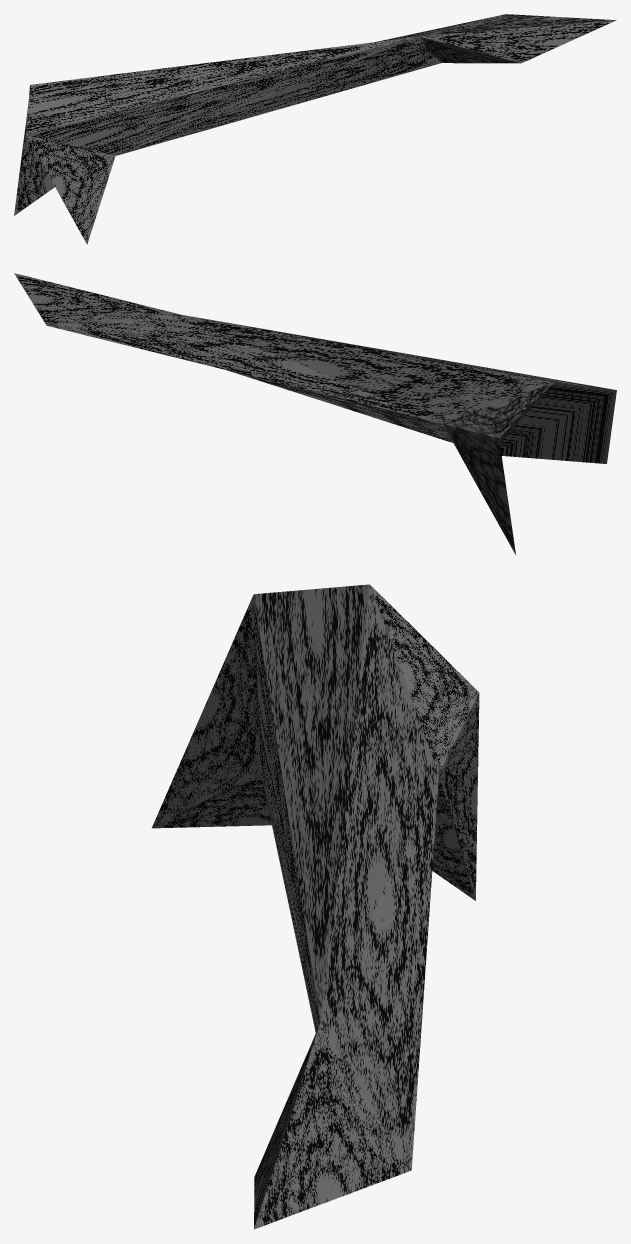
Rendered from CitizeOneLeftArm.fbx.
3 views of the same model, one above another, from view 1: azimuth 30°, elevation 25°; view 2: azimuth 150°, elevation 25°; view 3: azimuth 270°, elevation 25° (orthographic). The views are drawn at different scales.
Visible parts, largest first — view 1: CitizenOneLeftArm; view 2: CitizenOneLeftArm; view 3: CitizenOneLeftArm.
Part boxes in pixels (x1,y1,x2,y2): CitizenOneLeftArm: (14,14,616,244); CitizenOneLeftArm: (14,273,616,554); CitizenOneLeftArm: (152,584,479,1229).
Size of the model in its own units: 831 by 206 by 200.
